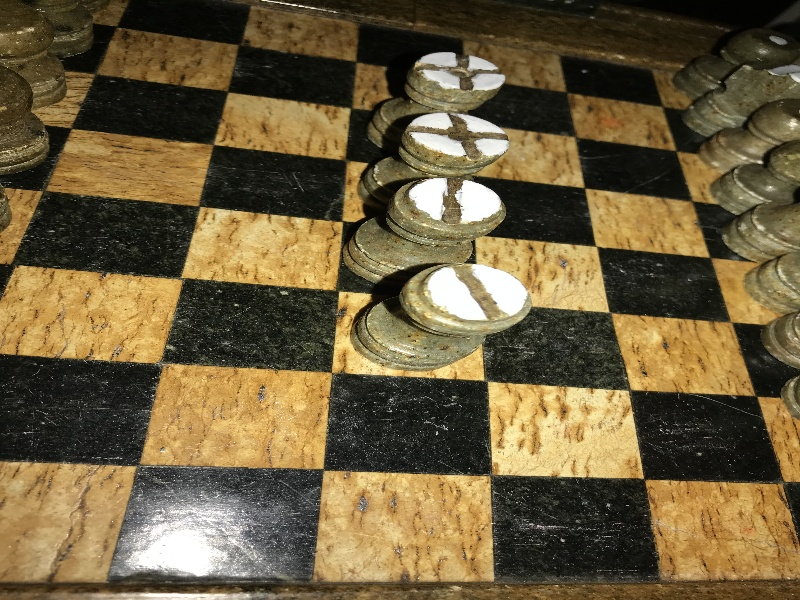WhiteBishop: (370, 50, 506, 149), (359, 111, 509, 195)
WhiteRook: (349, 264, 533, 372), (343, 176, 508, 280)
